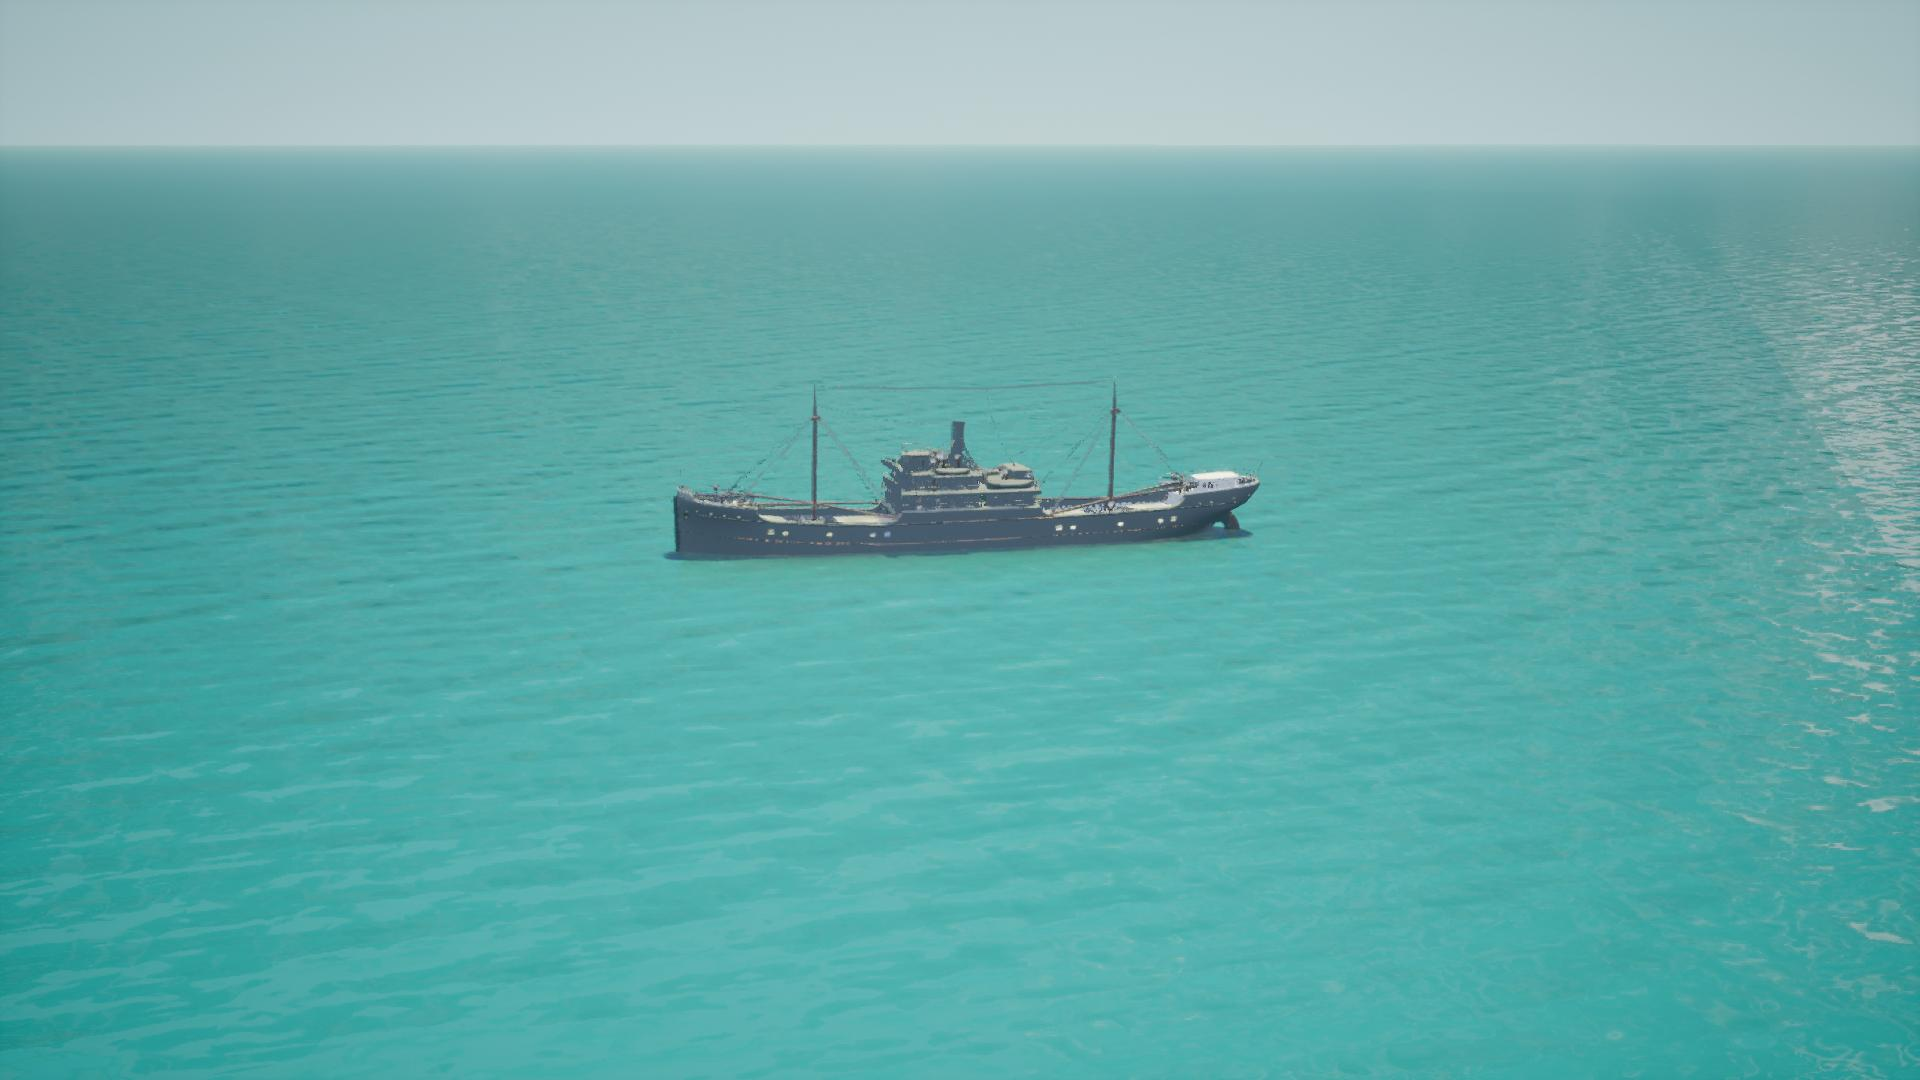Fishing Boat: (678, 389, 1258, 559)
